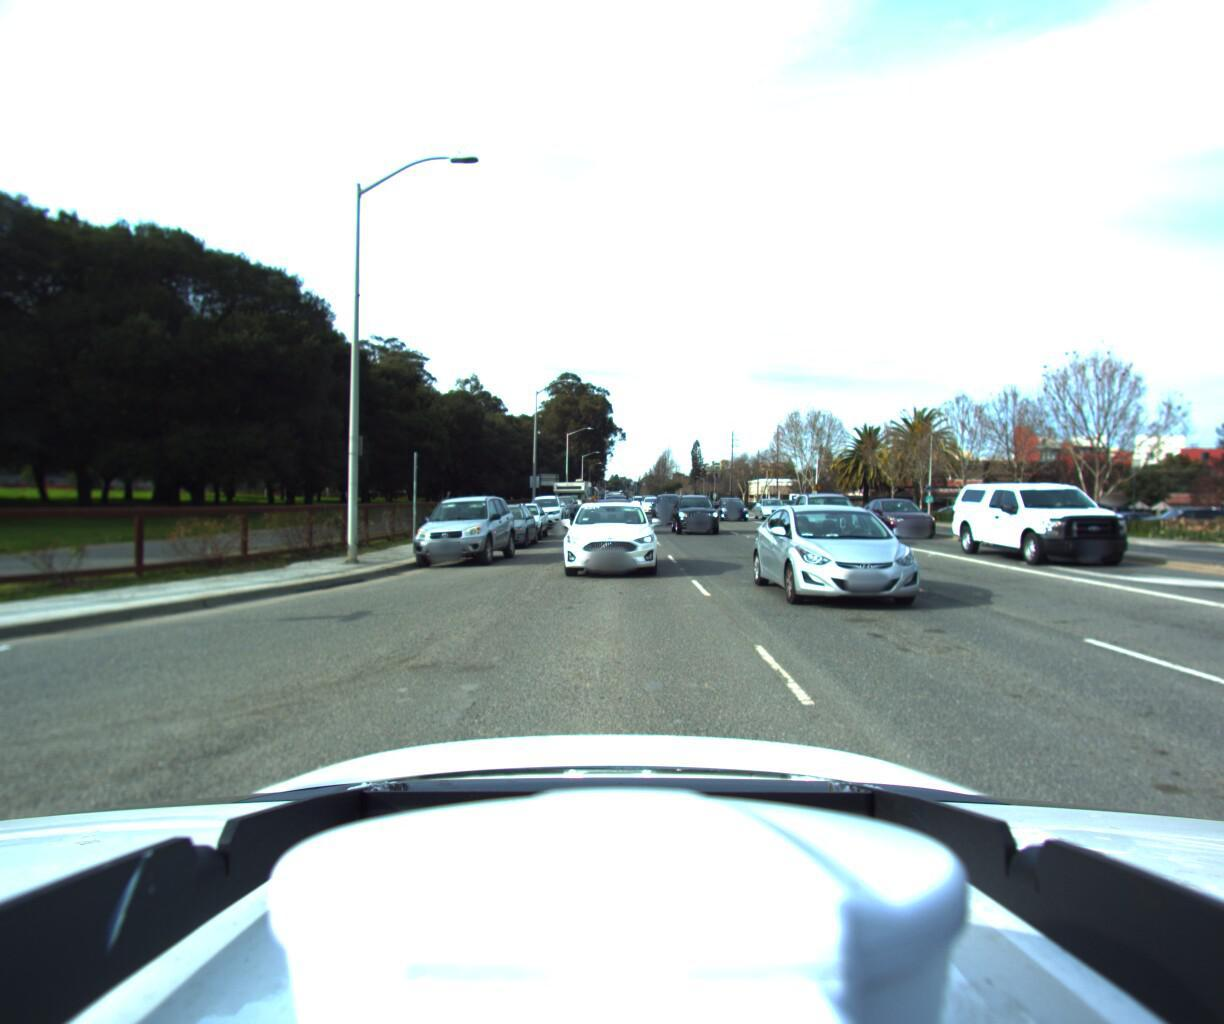car: (750, 499, 953, 616), (953, 474, 1165, 570), (399, 491, 517, 570), (557, 495, 660, 584), (788, 488, 884, 550), (857, 496, 952, 541), (462, 498, 538, 547), (488, 499, 549, 540), (667, 494, 720, 536), (583, 495, 632, 537), (519, 492, 569, 529), (649, 496, 687, 527), (753, 496, 795, 523), (544, 494, 582, 521), (715, 499, 753, 525), (635, 494, 658, 514)
other_vehicle: (544, 478, 590, 517), (558, 474, 595, 513)
